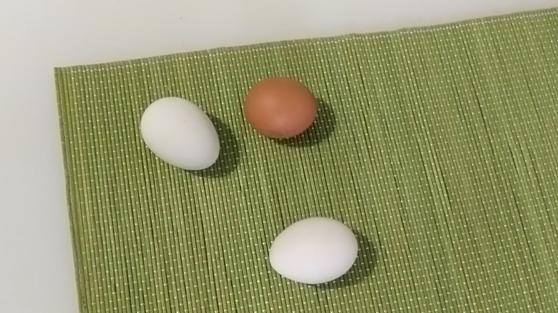egg: (141, 95, 226, 176), (271, 211, 360, 285), (244, 71, 324, 143)
